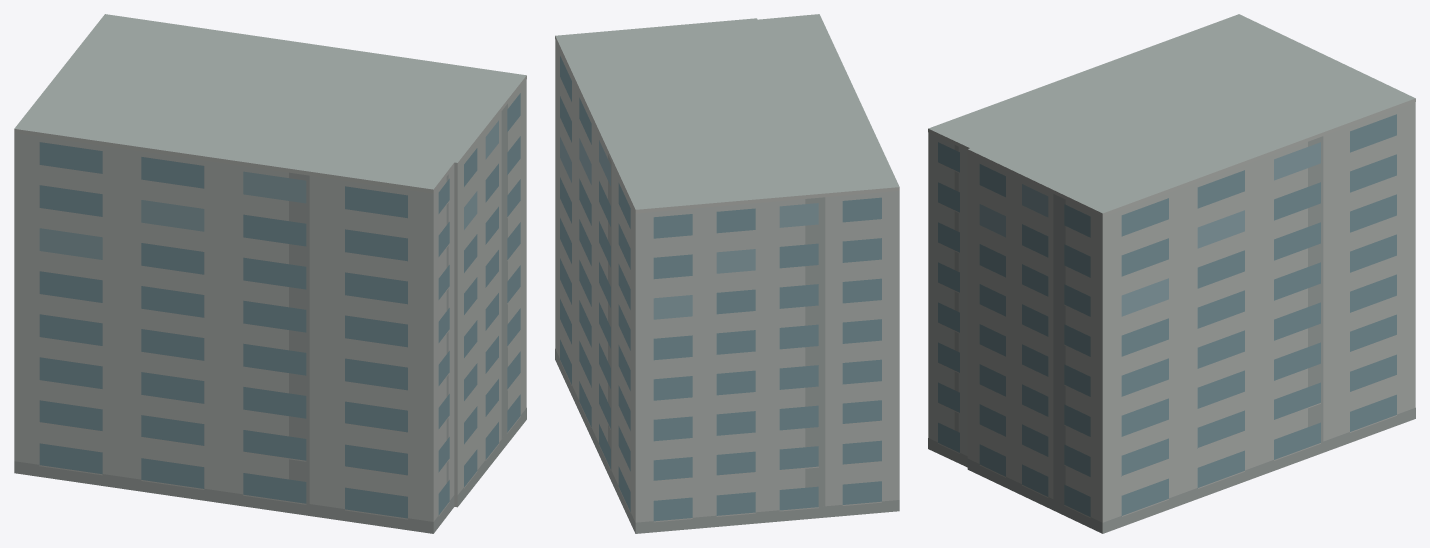
File: survey-upis-32694161.glb
The picture shows the model from 3 angles, left to right: view 1: azimuth 30°, elevation 25°; view 2: azimuth 150°, elevation 25°; view 3: azimuth 270°, elevation 25°; orthographic projection. The views are drawn at different scales.
Visible parts, largest first — view 1: survey-upis-32694161.tmp; view 2: survey-upis-32694161.tmp; view 3: survey-upis-32694161.tmp.
Part boxes in pixels (x1,y1,x2,y2): survey-upis-32694161.tmp: [14, 14, 526, 533]; survey-upis-32694161.tmp: [555, 14, 899, 533]; survey-upis-32694161.tmp: [928, 14, 1415, 533].
Bounding box in the file's own units: 27.91 × 20.9 × 28.83.
